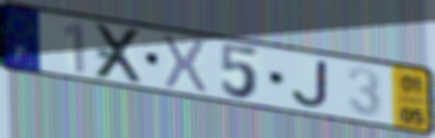1: (63, 21, 87, 75)
3: (345, 65, 385, 120)
5: (219, 43, 266, 102)
J: (289, 59, 331, 110)
X: (93, 22, 146, 86), (161, 32, 210, 97)
